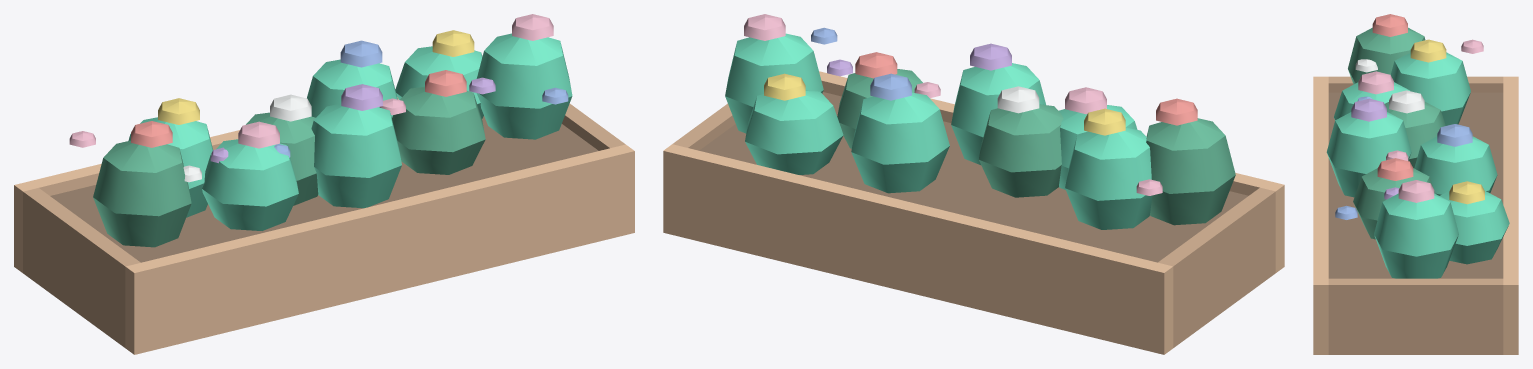
The model's file is gardenFlowerbed.glb.
3 views of the same model, side by side, from view 1: azimuth 30°, elevation 25°; view 2: azimuth 150°, elevation 25°; view 3: azimuth 270°, elevation 25° (orthographic). The views are drawn at different scales.
Parts seen in each view (by area): view 1: gardenFlowerbed; view 2: gardenFlowerbed; view 3: gardenFlowerbed.
Boxes of the visible parts, x1,y1,x2,y2 form: gardenFlowerbed: [14, 14, 634, 354]; gardenFlowerbed: [663, 14, 1284, 354]; gardenFlowerbed: [1313, 14, 1518, 354].
Size of the model in its own units: 0.96 by 0.3336 by 0.4.
